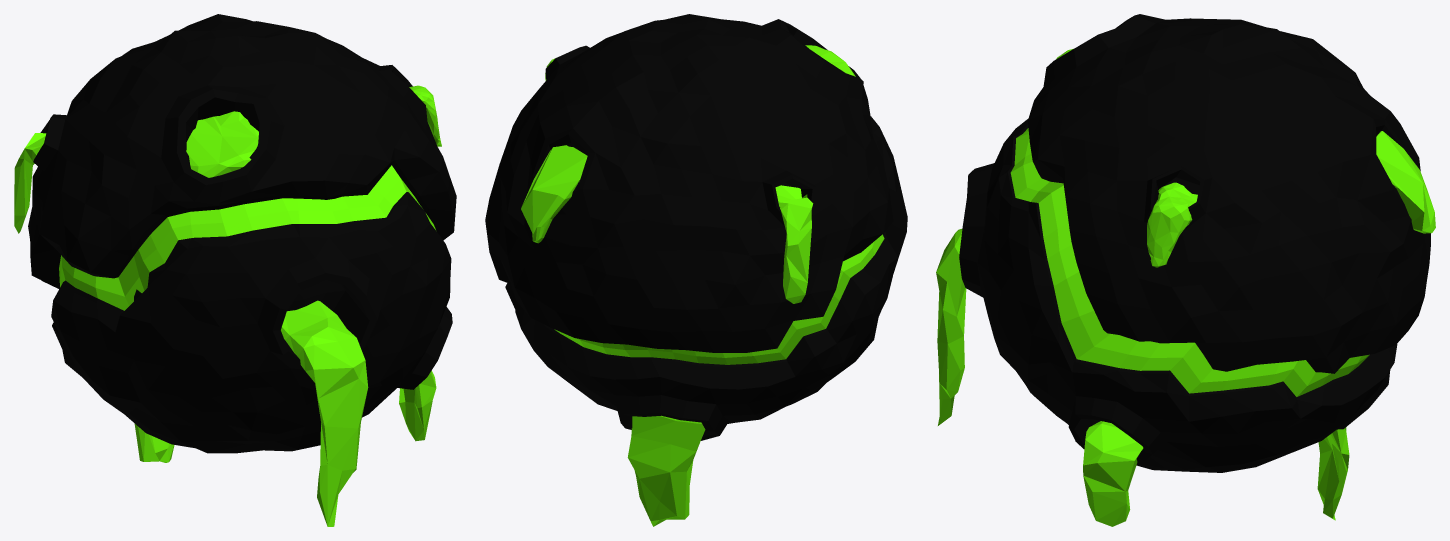
Rendered from toxic_planet.glb.
3 renders of one model, left to right at view 1: azimuth 30°, elevation 25°; view 2: azimuth 150°, elevation 25°; view 3: azimuth 270°, elevation 25°, orthographic. The views are drawn at different scales.
Parts seen in each view (by area): view 1: TOXIC_PLANET, TOXIC_SLUG, TOXIC_RIVER; view 2: TOXIC_PLANET, TOXIC_SLUG, TOXIC_RIVER; view 3: TOXIC_PLANET, TOXIC_SLUG, TOXIC_RIVER.
Part boxes in pixels (<box>): TOXIC_PLANET: <box>28,14,456,453</box>; TOXIC_SLUG: <box>14,85,441,526</box>; TOXIC_RIVER: <box>59,165,435,310</box>; TOXIC_PLANET: <box>485,14,907,440</box>; TOXIC_SLUG: <box>521,45,855,526</box>; TOXIC_RIVER: <box>554,234,884,364</box>; TOXIC_PLANET: <box>959,14,1430,472</box>; TOXIC_SLUG: <box>936,48,1435,526</box>; TOXIC_RIVER: <box>1010,128,1369,396</box>.
Bounding box in the file's own units: 2.03 × 2.42 × 2.23.
1 material, 1 textured.
